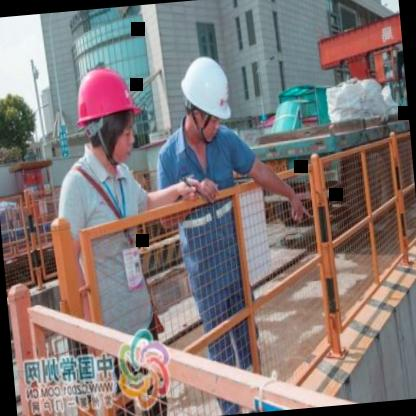helmet: (64, 52, 147, 174), (174, 48, 238, 146)
